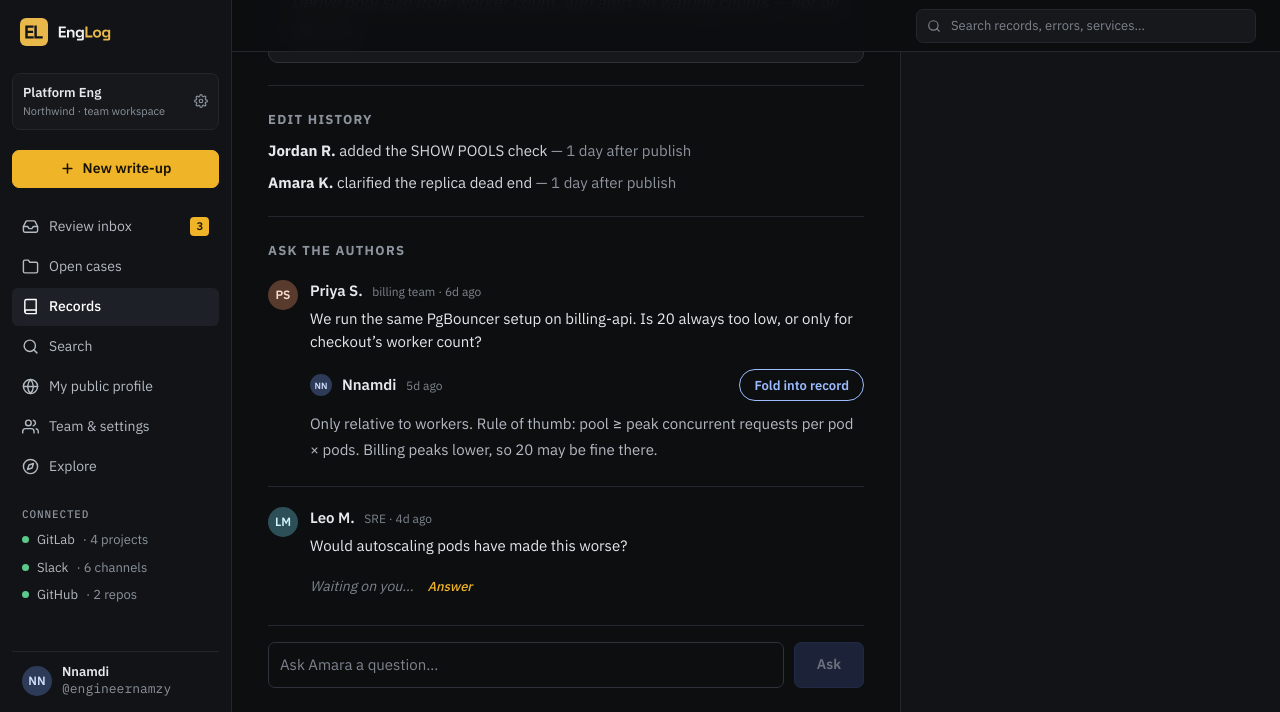
Test: EngLog app › asks a question on a record
The image size is (1280, 712).
(page scrolled)
Type "Does this apply to the jobs cluster?" into the field named "Ask a question" at (526, 665), box [268,642,784,688]
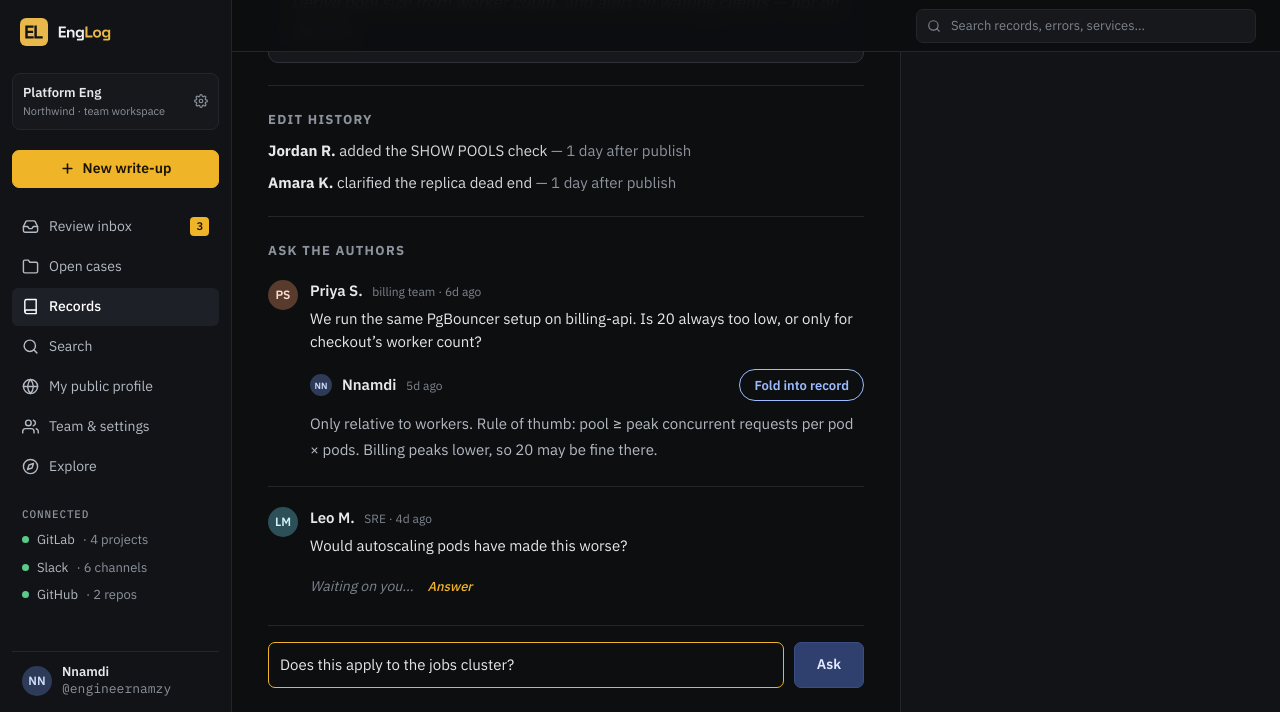
Click the button "Ask" at (829, 665), box [794,642,864,688]
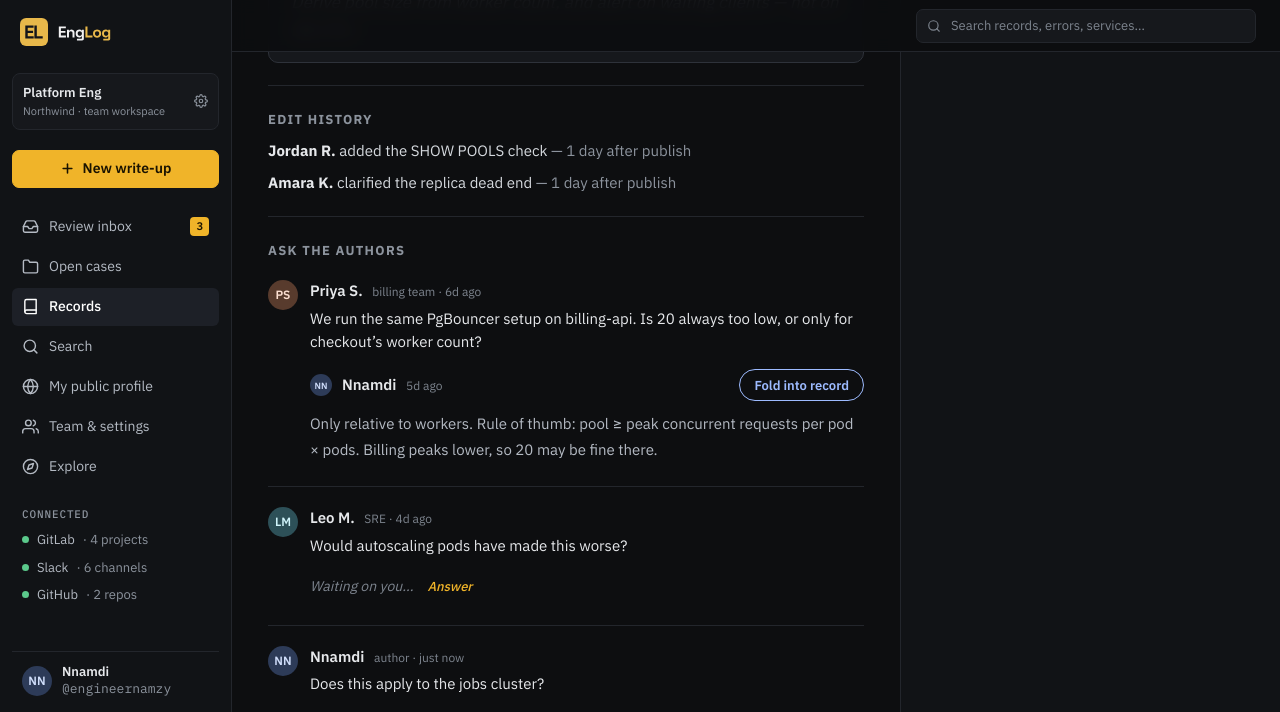
Check: the text "Does this apply to the jobs cluster?" is shown, box [310,674,544,693]
